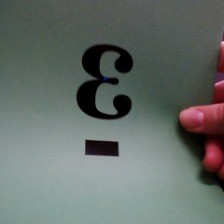green3: (72, 38, 138, 162)
